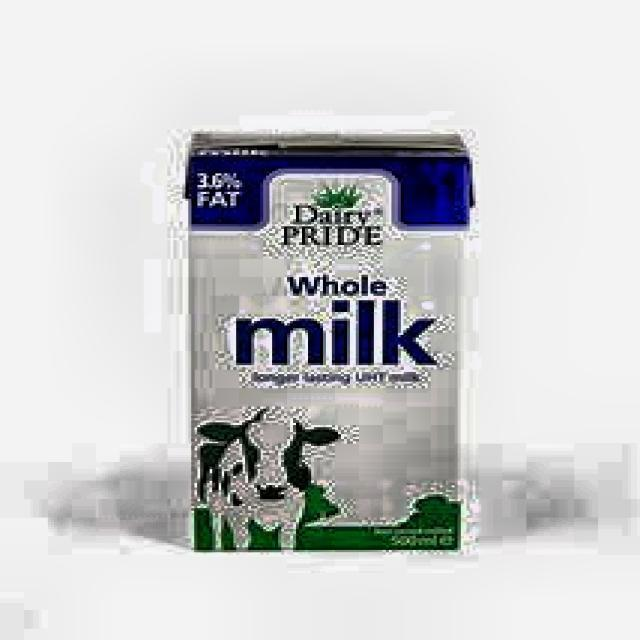cardboard: (182, 130, 476, 552)
